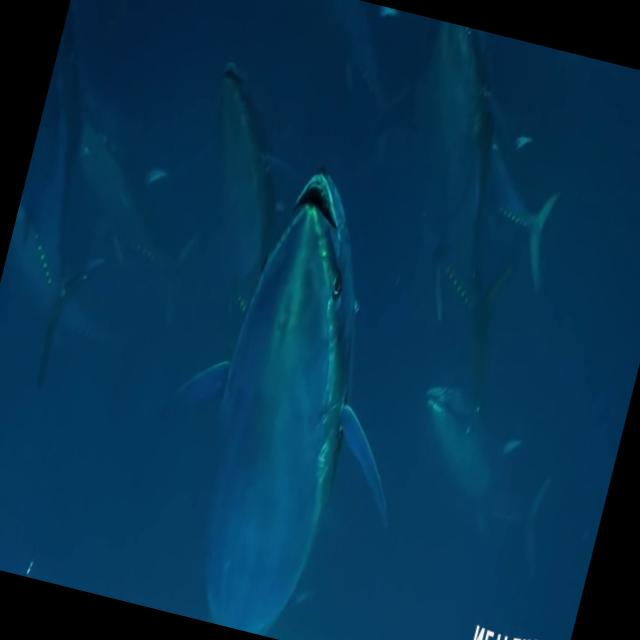fish: (116, 124, 474, 640), (350, 19, 568, 408), (153, 54, 324, 348), (16, 95, 230, 326), (386, 376, 586, 585), (0, 167, 135, 410), (433, 125, 601, 316)
